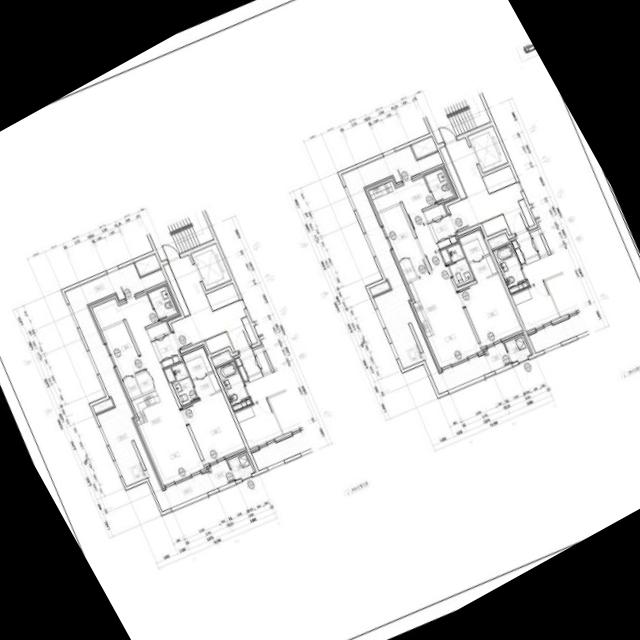background: (0, 0, 640, 640)
space_balconi: (64, 263, 234, 511), (341, 146, 511, 394)
space_bedroom: (182, 391, 245, 464), (459, 274, 522, 346), (378, 204, 429, 276), (101, 322, 144, 379)
space_dressroom: (181, 347, 212, 379), (459, 230, 489, 262), (192, 372, 220, 398), (469, 255, 497, 280), (122, 376, 141, 398), (399, 258, 416, 281)
space_elevator_hall: (168, 243, 252, 351), (445, 126, 528, 234)
space_front: (422, 204, 458, 248), (150, 332, 182, 368)
space_kitchen: (408, 273, 454, 337), (131, 390, 165, 425), (368, 181, 402, 211)
space_living_room: (91, 294, 204, 485), (396, 177, 482, 367)
space_other: (440, 146, 466, 199), (163, 263, 189, 316), (482, 166, 516, 193), (205, 283, 239, 310), (204, 331, 234, 354), (481, 214, 511, 236), (134, 253, 160, 276), (411, 136, 437, 158), (146, 321, 170, 341), (518, 199, 534, 227), (241, 316, 257, 344), (135, 371, 154, 393), (369, 281, 390, 296), (92, 398, 113, 413), (164, 367, 175, 382), (440, 249, 451, 263)
space_outdoor_room: (504, 335, 530, 362), (228, 452, 254, 479)
space_staircase: (149, 211, 214, 261)
space_toilet: (171, 362, 198, 406), (147, 285, 177, 321), (425, 168, 453, 202), (449, 257, 474, 286), (447, 243, 464, 262)
